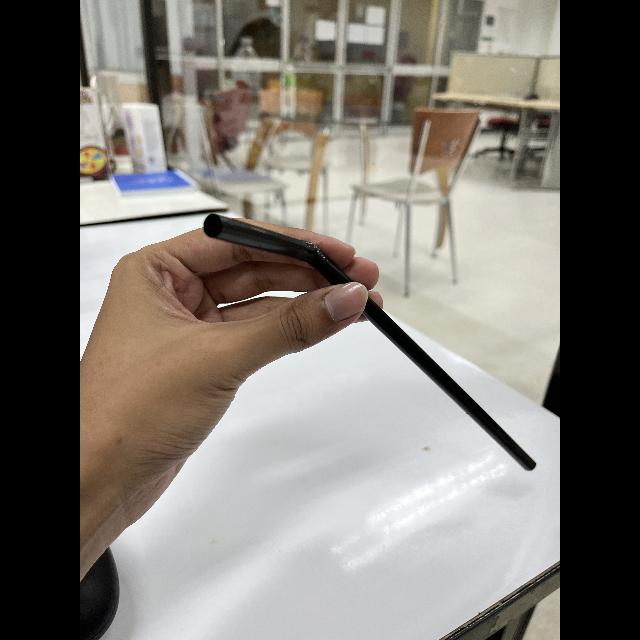straw: (202, 203, 538, 477)
